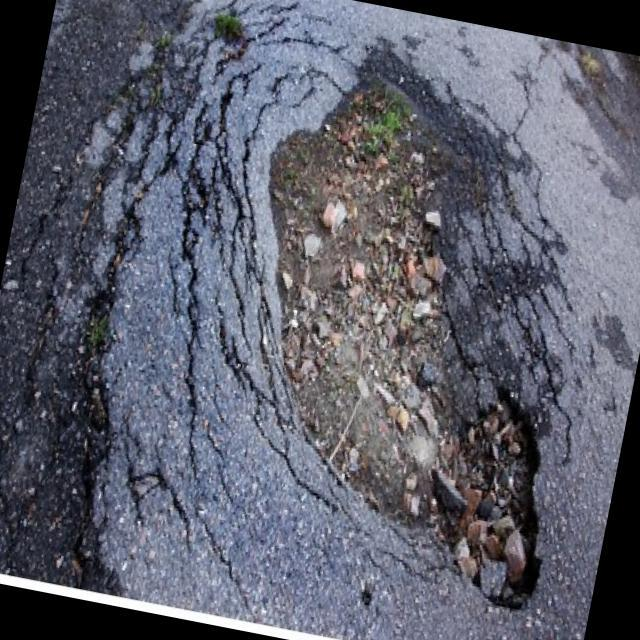Pothole: (173, 30, 638, 619)
